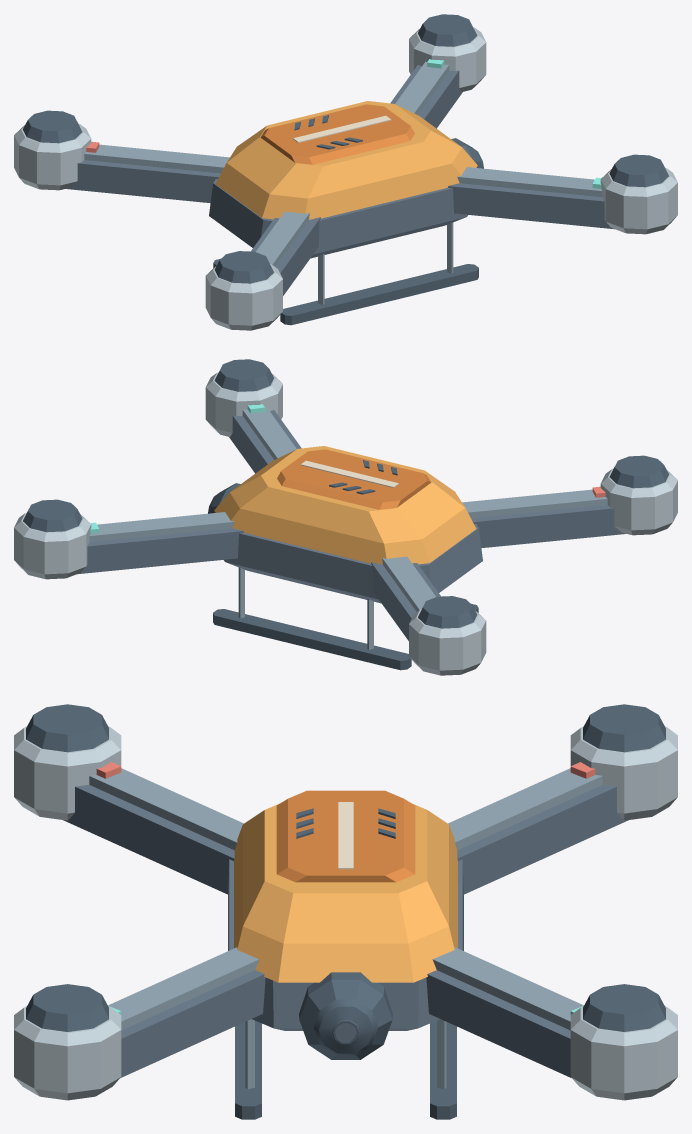
The model's file is airframe.dae.
3 renders of one model, top to bottom at view 1: azimuth 30°, elevation 25°; view 2: azimuth 150°, elevation 25°; view 3: azimuth 270°, elevation 25°, orthographic. The views are drawn at different scales.
Parts seen in each view (by area): view 1: airframe; view 2: airframe; view 3: airframe.
Boxes of the visible parts, x1,y1,x2,y2 form: airframe: (14, 14, 677, 330); airframe: (14, 359, 677, 675); airframe: (14, 704, 677, 1119).
Bounding box in the file's own units: 1.03 × 0.8827 × 0.3135.
